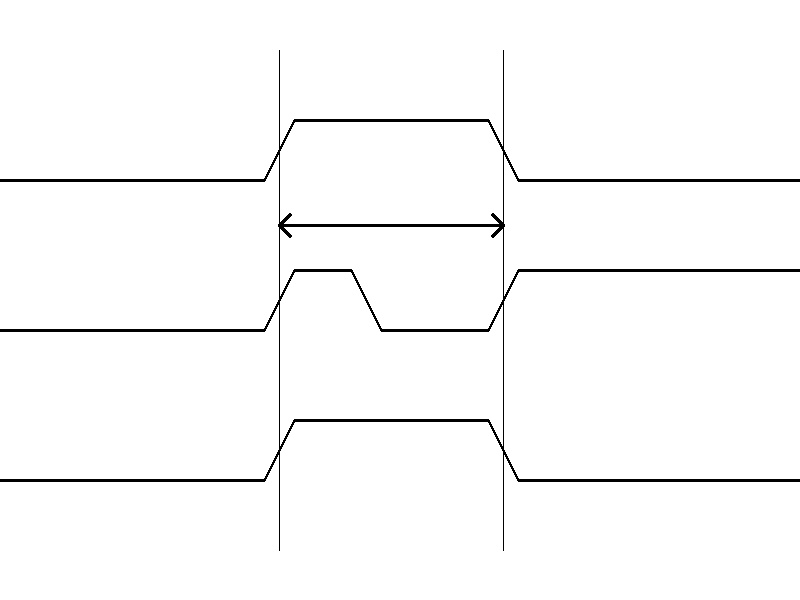double_arrow: (279, 210, 503, 240)
